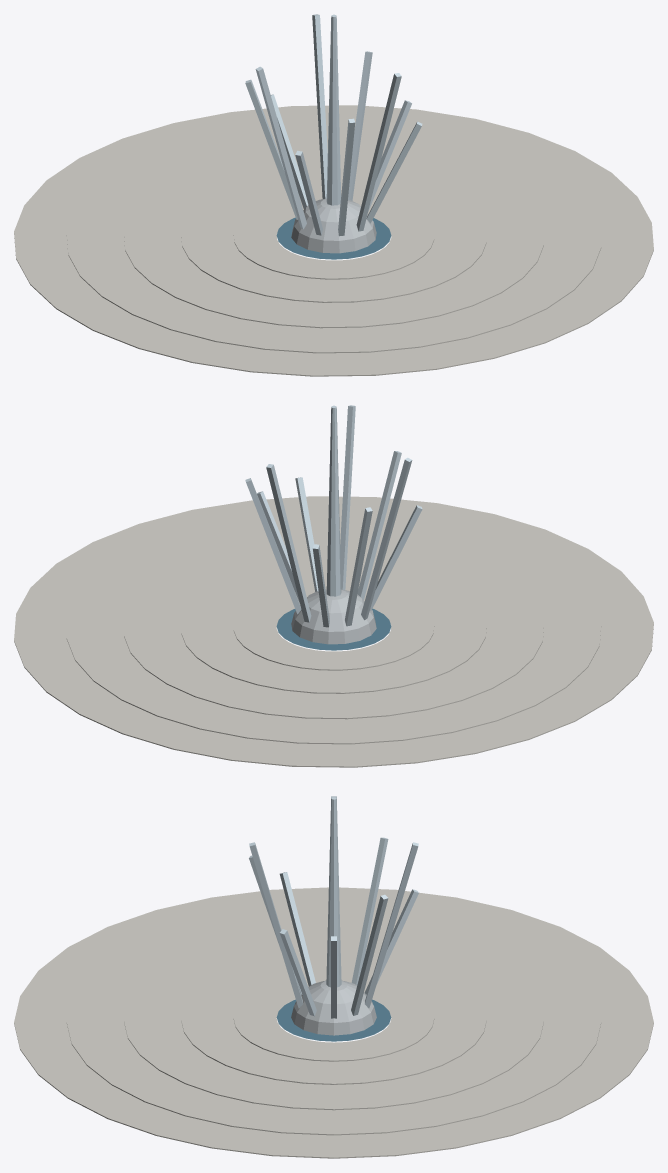
File: international_fountain.glb
3 views of the same model, one above another, from view 1: azimuth 30°, elevation 25°; view 2: azimuth 150°, elevation 25°; view 3: azimuth 270°, elevation 25° (orthographic).
Parts seen in each view (by area): view 1: international_fountain; view 2: international_fountain; view 3: international_fountain.
Part boxes in pixels (bbox=[...]): international_fountain: bbox=[14, 14, 653, 376]; international_fountain: bbox=[14, 405, 653, 767]; international_fountain: bbox=[14, 796, 653, 1158].
Bounding box in the file's own units: 67 × 26 × 67.
1 material, 1 textured.
